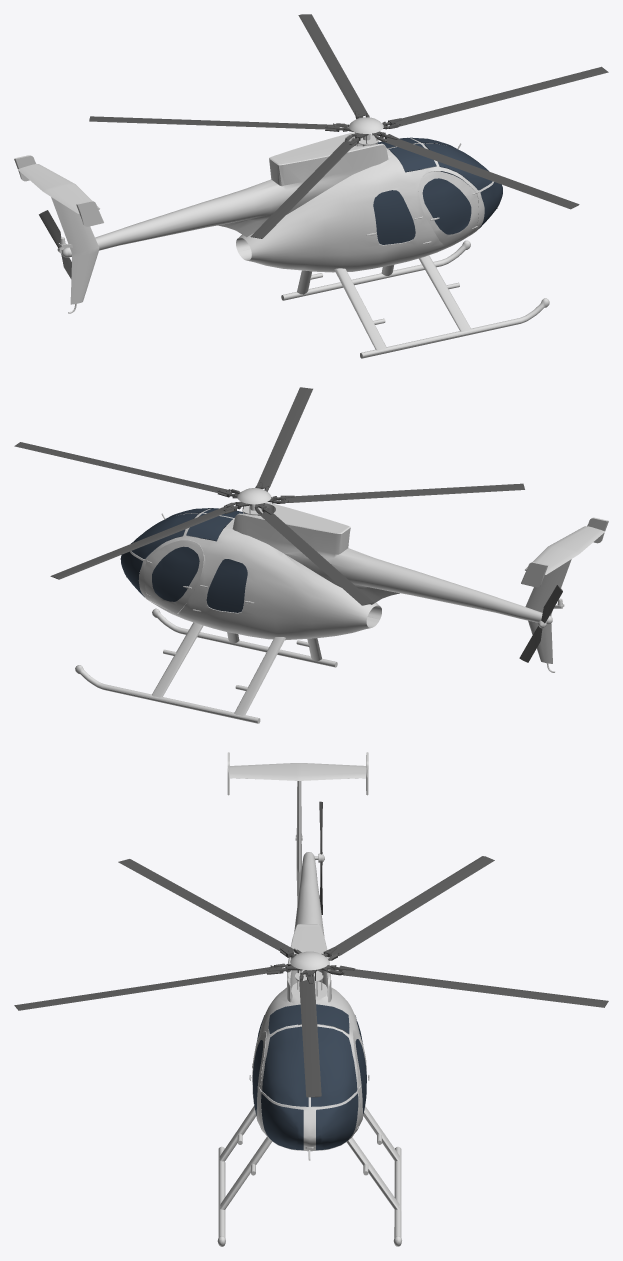
3 views of the same model, one above another, from view 1: azimuth 30°, elevation 25°; view 2: azimuth 150°, elevation 25°; view 3: azimuth 270°, elevation 25° (orthographic). The views are drawn at different scales.
Parts seen in each view (by area): view 1: body, spin (×2), glass; view 2: body, spin (×2), glass; view 3: body, glass, spin.
Part boxes in pixels (<box>): body: <box>14,117,549,358</box>; spin (×2): <box>39,14,608,278</box>; glass: <box>373,137,502,244</box>; body: <box>75,488,608,723</box>; spin (×2): <box>14,387,562,662</box>; glass: <box>120,508,247,612</box>; body: <box>217,752,401,1246</box>; glass: <box>252,1004,366,1150</box>; spin: <box>14,856,608,1097</box>.
Size of the model in its own units: 2.2 by 0.8299 by 1.78.
